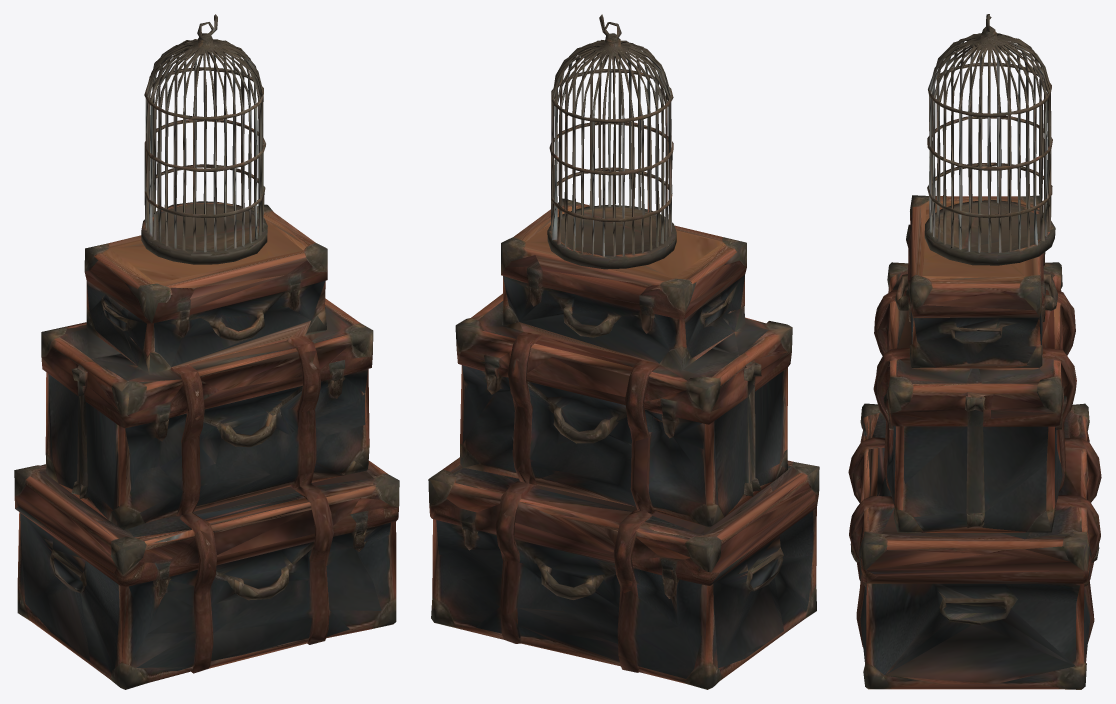
The model's file is trunk_stack.glb.
3 views of the same model, side by side, from view 1: azimuth 30°, elevation 25°; view 2: azimuth 150°, elevation 25°; view 3: azimuth 270°, elevation 25° (orthographic). The views are drawn at different scales.
Parts seen in each view (by area): view 1: body; view 2: body; view 3: body.
Part boxes in pixels (left/top/right/bottom): body: left=14, top=14, right=399, bottom=689; body: left=428, top=14, right=819, bottom=689; body: left=848, top=14, right=1101, bottom=689.
Size of the model in its own units: 0.6984 by 1.4 by 0.5222.
1 material, 1 textured.
